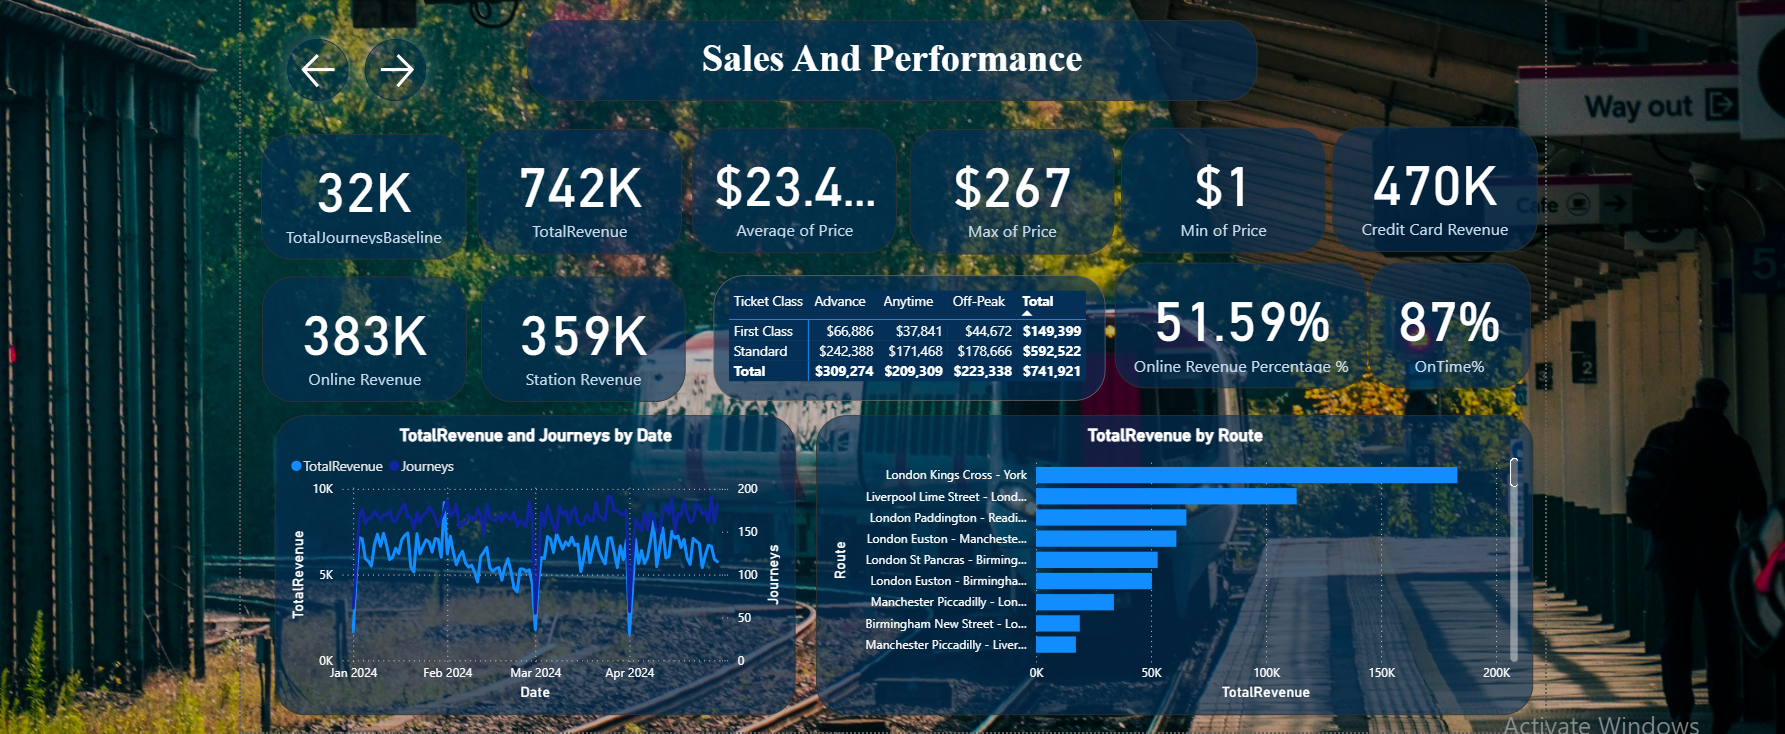

Layout of this report page (visuals, bound fields, positions):
{"tool":"powerbi","page":{"name":"Sales & Performance","canvas":[1280,720],"ordinal":1},"visuals":[{"type":"card","fields":{"Values":["_measure.TotalRevenue"]},"box":[231.8,127.9,201,123],"z":0},{"type":"card","fields":{"Values":["Avg(Ticket Table.Price)"]},"box":[443.1,126.5,201,123],"z":1000},{"type":"card","fields":{"Values":["Min(Ticket Table.Price)"]},"box":[864.3,126.5,201,123],"z":2000},{"type":"card","fields":{"Values":["Max(Ticket Table.Price)"]},"box":[657.1,127.9,201,123],"z":3000},{"type":"card","fields":{"Values":["_measure.Credit Card Revenue"]},"box":[1066,126.5,201,123],"z":4000},{"type":"card","fields":{"Values":["_measure.Online Revenue"]},"box":[20.3,272,201,123],"z":5000},{"type":"card","fields":{"Values":["_measure.Station Revenue"]},"box":[235.8,272,201,123],"z":6000},{"type":"card","fields":{"Values":["_measure.Online Revenue Percentage %"]},"box":[858,259.5,248.2,123.5],"z":7000},{"type":"card","fields":{"Values":["_measure.TotalJourneysBaseline"]},"box":[19.6,135.7,201.8,123.5],"z":8000},{"type":"lineChart","fields":{"Y":["_measure.TotalRevenue"],"Category":["Date.Date.Variation.Date Hierarchy.Year"],"Y2":["_measure.Journeys"]},"box":[32.6,408.7,511.1,294.7],"z":9000},{"type":"clusteredBarChart","fields":{"Y":["_measure.TotalRevenue"],"Category":["Journey Table.Route"]},"box":[564.5,408.7,704.4,294.7],"z":10000},{"type":"pivotTable","fields":{"Rows":["Ticket Table.Ticket Class"],"Columns":["Ticket Table.Ticket Type"],"Values":["Sum(Ticket Table.Price)"]},"box":[464.3,271.7,385.2,123.5],"z":11000},{"type":"card","fields":{"Values":["_measure.OnTime%"]},"box":[1106.3,259.5,159,123.5],"z":12000},{"type":"textbox","title":" Customer Impact on delay and refund","box":[281.3,20.8,716.6,79.5],"z":13000},{"type":"actionButton","box":[45.2,39.1,59.9,61.1],"z":14000},{"type":"actionButton","box":[121.1,39.1,59.9,61.1],"z":15000}]}

Visuals, with their boxes on the page's 1280x720 design canvas (x1, y1, x2, y2). These are canvas units, not pixel positions in the 1785x734 screenshot, which may show the page scaled, cropped or inside an application window:
card - _measure.TotalRevenue: (x1=232, y1=128, x2=433, y2=251)
card - Avg(Ticket Table.Price): (x1=443, y1=126, x2=644, y2=250)
card - Min(Ticket Table.Price): (x1=864, y1=126, x2=1065, y2=250)
card - Max(Ticket Table.Price): (x1=657, y1=128, x2=858, y2=251)
card - _measure.Credit Card Revenue: (x1=1066, y1=126, x2=1267, y2=250)
card - _measure.Online Revenue: (x1=20, y1=272, x2=221, y2=395)
card - _measure.Station Revenue: (x1=236, y1=272, x2=437, y2=395)
card - _measure.Online Revenue Percentage %: (x1=858, y1=260, x2=1106, y2=383)
card - _measure.TotalJourneysBaseline: (x1=20, y1=136, x2=221, y2=259)
lineChart - _measure.TotalRevenue x Date.Date.Variation.Date Hierarchy.Year: (x1=33, y1=409, x2=544, y2=703)
clusteredBarChart - _measure.TotalRevenue x Journey Table.Route: (x1=564, y1=409, x2=1269, y2=703)
pivotTable - Ticket Table.Ticket Class x Ticket Table.Ticket Type: (x1=464, y1=272, x2=850, y2=395)
card - _measure.OnTime%: (x1=1106, y1=260, x2=1265, y2=383)
" Customer Impact on delay and refund" textbox: (x1=281, y1=21, x2=998, y2=100)
actionButton: (x1=45, y1=39, x2=105, y2=100)
actionButton: (x1=121, y1=39, x2=181, y2=100)
